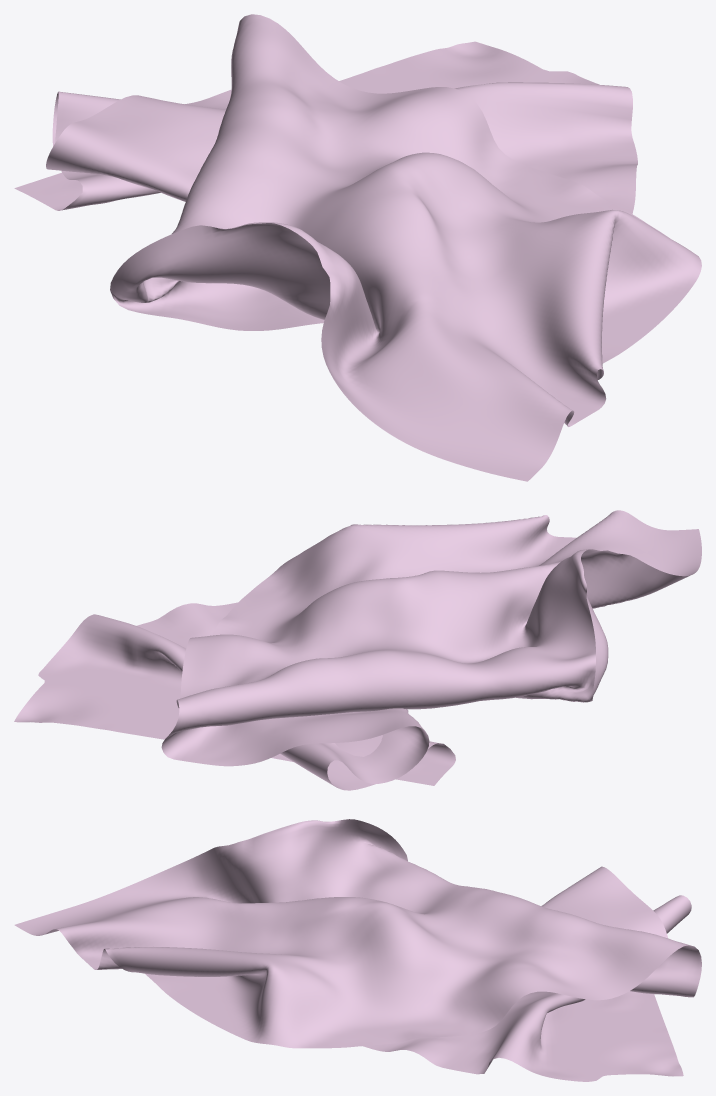
File: towl_01.obj
3 views of the same model, one above another, from view 1: azimuth 30°, elevation 25°; view 2: azimuth 150°, elevation 25°; view 3: azimuth 270°, elevation 25° (orthographic). The views are drawn at different scales.
Size of the model in its own units: 379 by 81.61 by 535.
